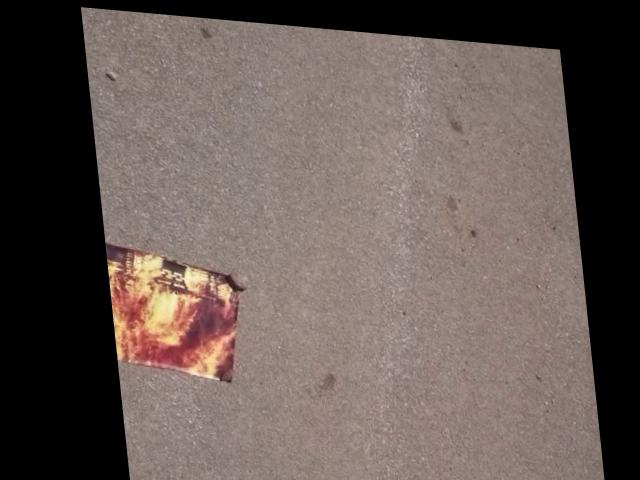fire-poster: (100, 239, 249, 384)
